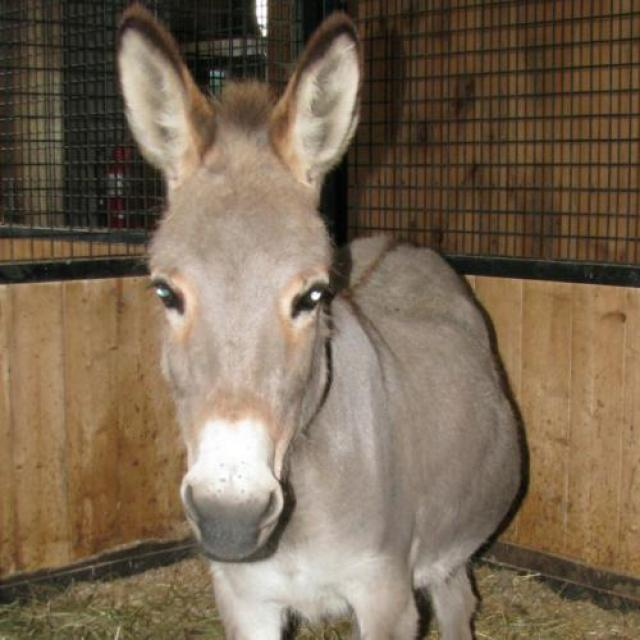Donkey: (116, 1, 526, 640)
